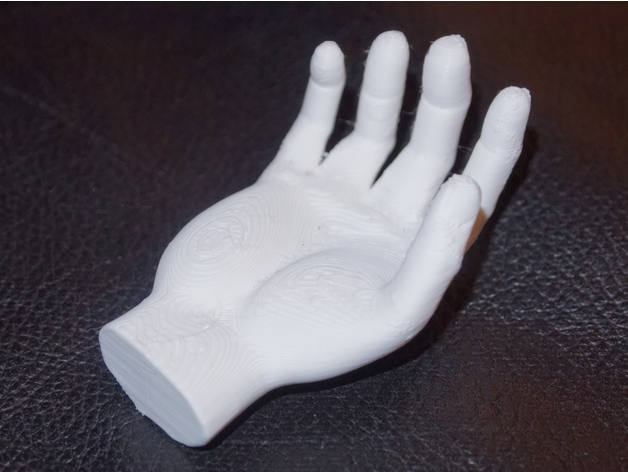finger: (368, 32, 478, 196), (411, 87, 537, 230), (259, 34, 345, 170), (343, 23, 397, 186)
